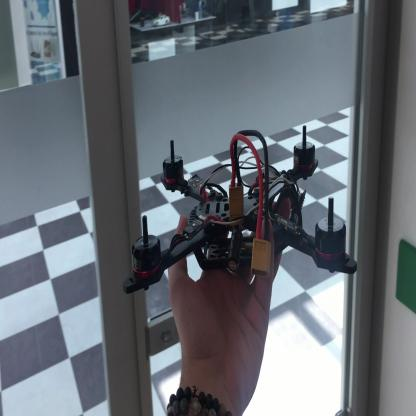drone: (130, 119, 356, 300)
